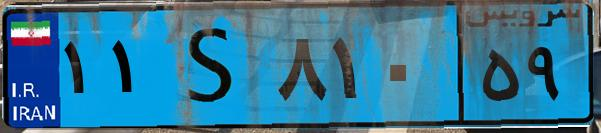0: (385, 28, 445, 110)
1: (330, 28, 385, 110), (57, 26, 110, 100), (110, 28, 158, 98)
5: (475, 38, 525, 113)
8: (270, 28, 330, 110)
9: (525, 38, 570, 115)
S: (158, 12, 270, 120)
